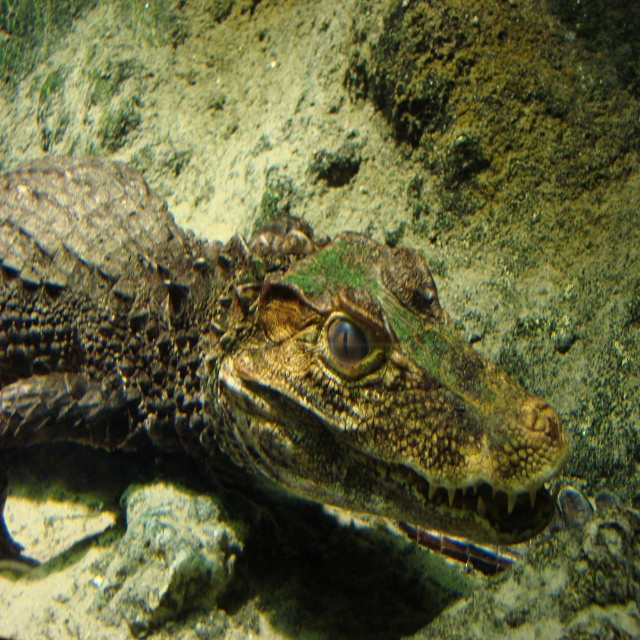Crocodile: (0, 152, 569, 562)
